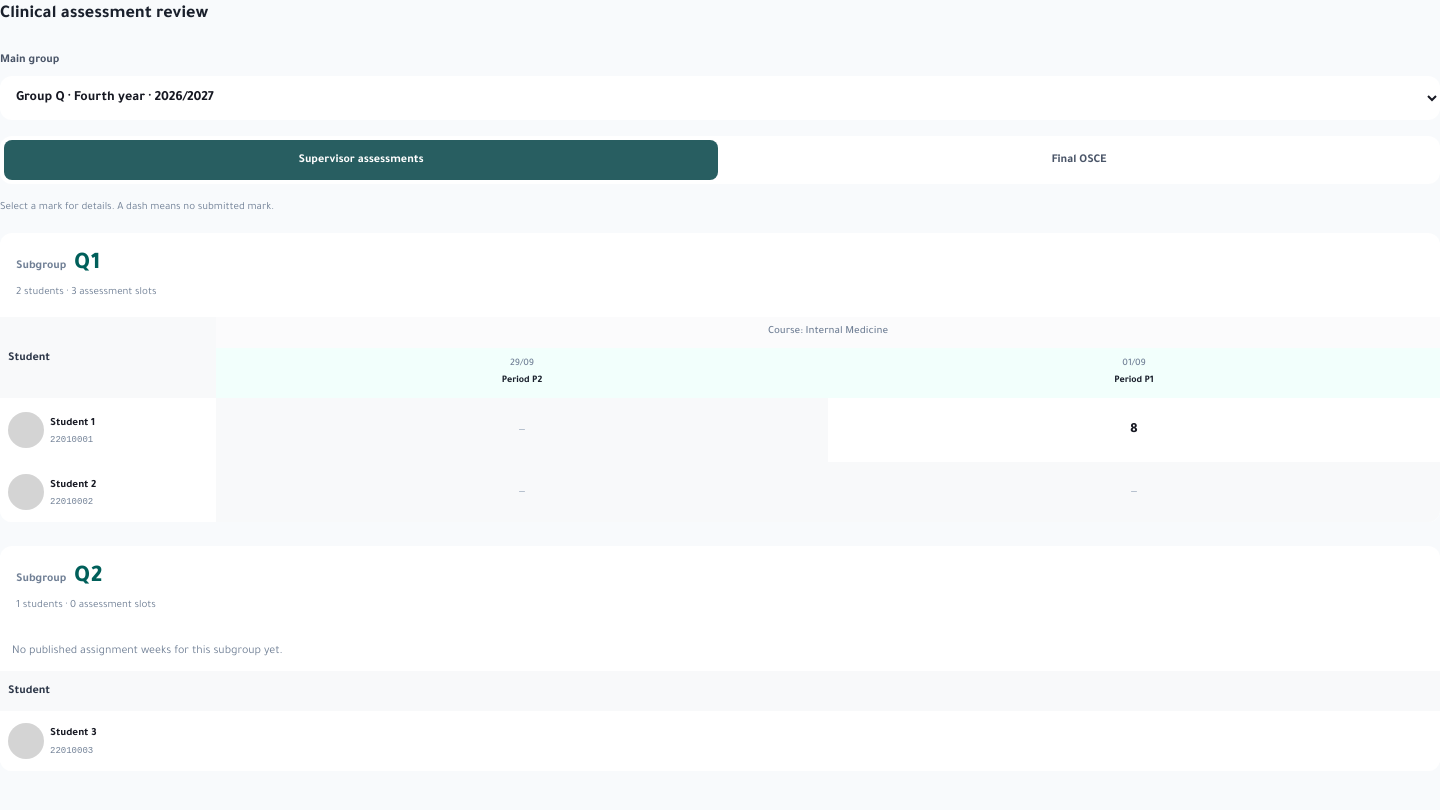
Test: AssessmentsMasterPage review › shows each training period separately and includes its mini OSCE in the detail
Expected: the text "Period P1" is shown, x1=1114 y1=376 x2=1154 y2=386
Expected: the text "Period P2" is shown, x1=502 y1=376 x2=542 y2=386
Click the button named "Student 1 · Period P1 · Q1 · Internal Medicine".
click(1134, 430)  # box x1=828 y1=398 x2=1439 y2=462
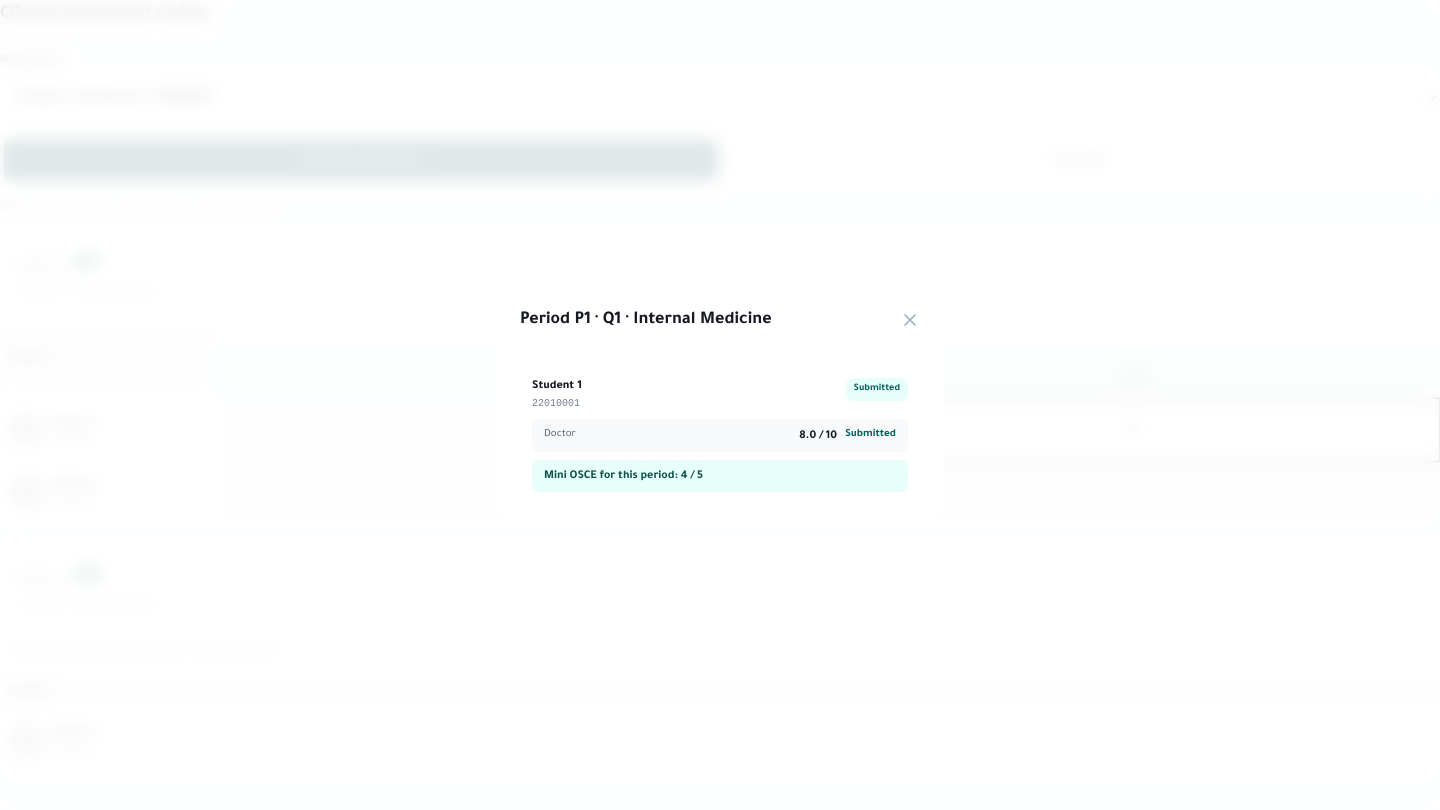
Expected: the text "Mini OSCE for this period: 4 / 5" is shown, x1=532 y1=460 x2=908 y2=492
